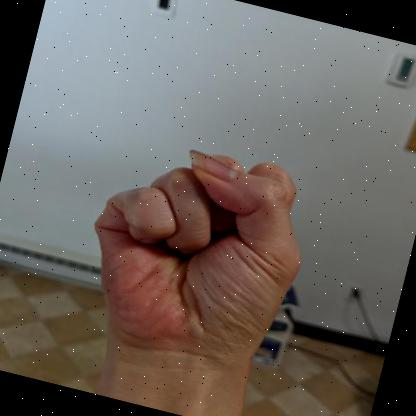S: (94, 149, 301, 382)
